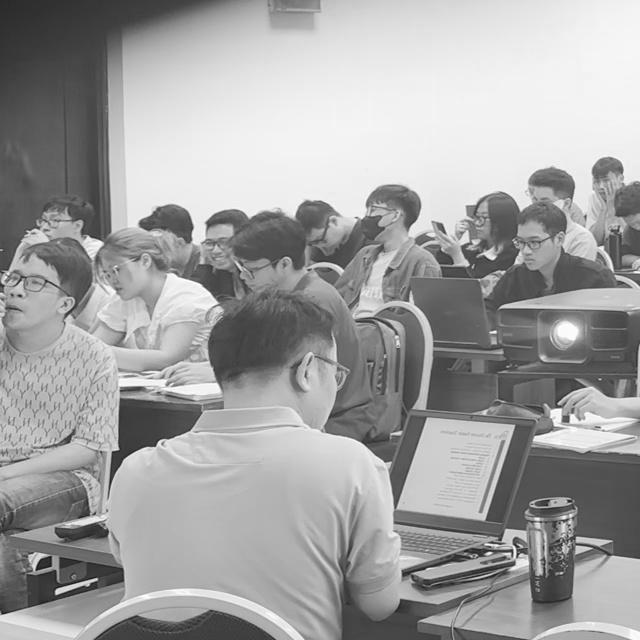Looking away: (109, 259, 138, 300), (520, 233, 547, 268), (311, 229, 338, 252)
Looking forward: (4, 270, 53, 324), (207, 226, 233, 267), (41, 214, 67, 239), (595, 177, 611, 200)
Phone use: (432, 191, 519, 278)
